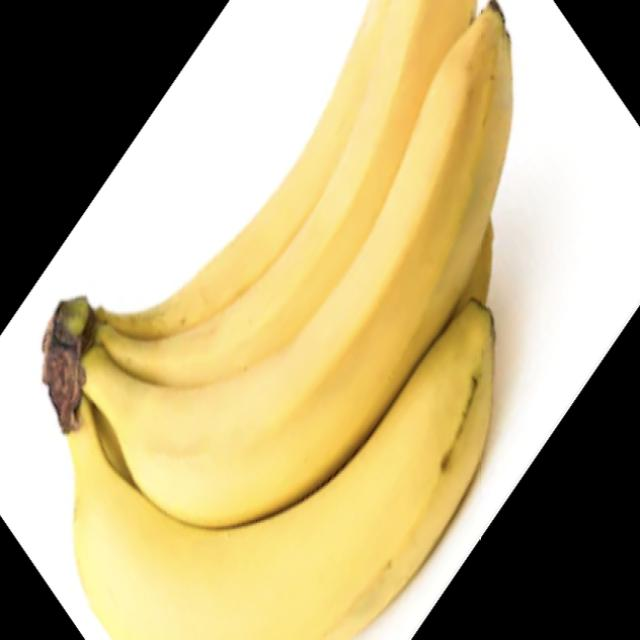god quality banana: (43, 0, 513, 638)
